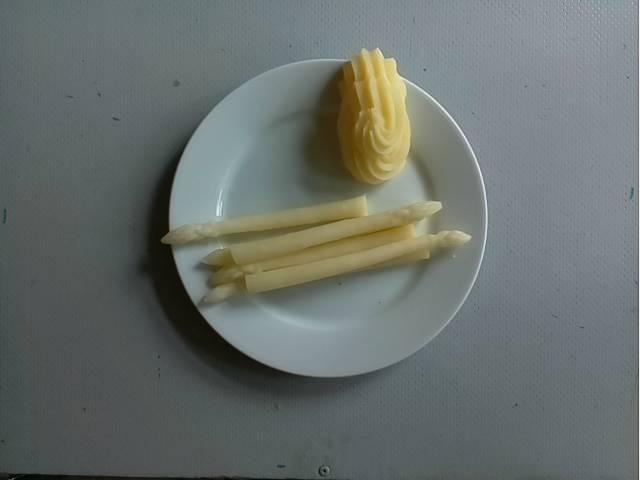Asparagus + mashed potatoes: (165, 53, 475, 307)
